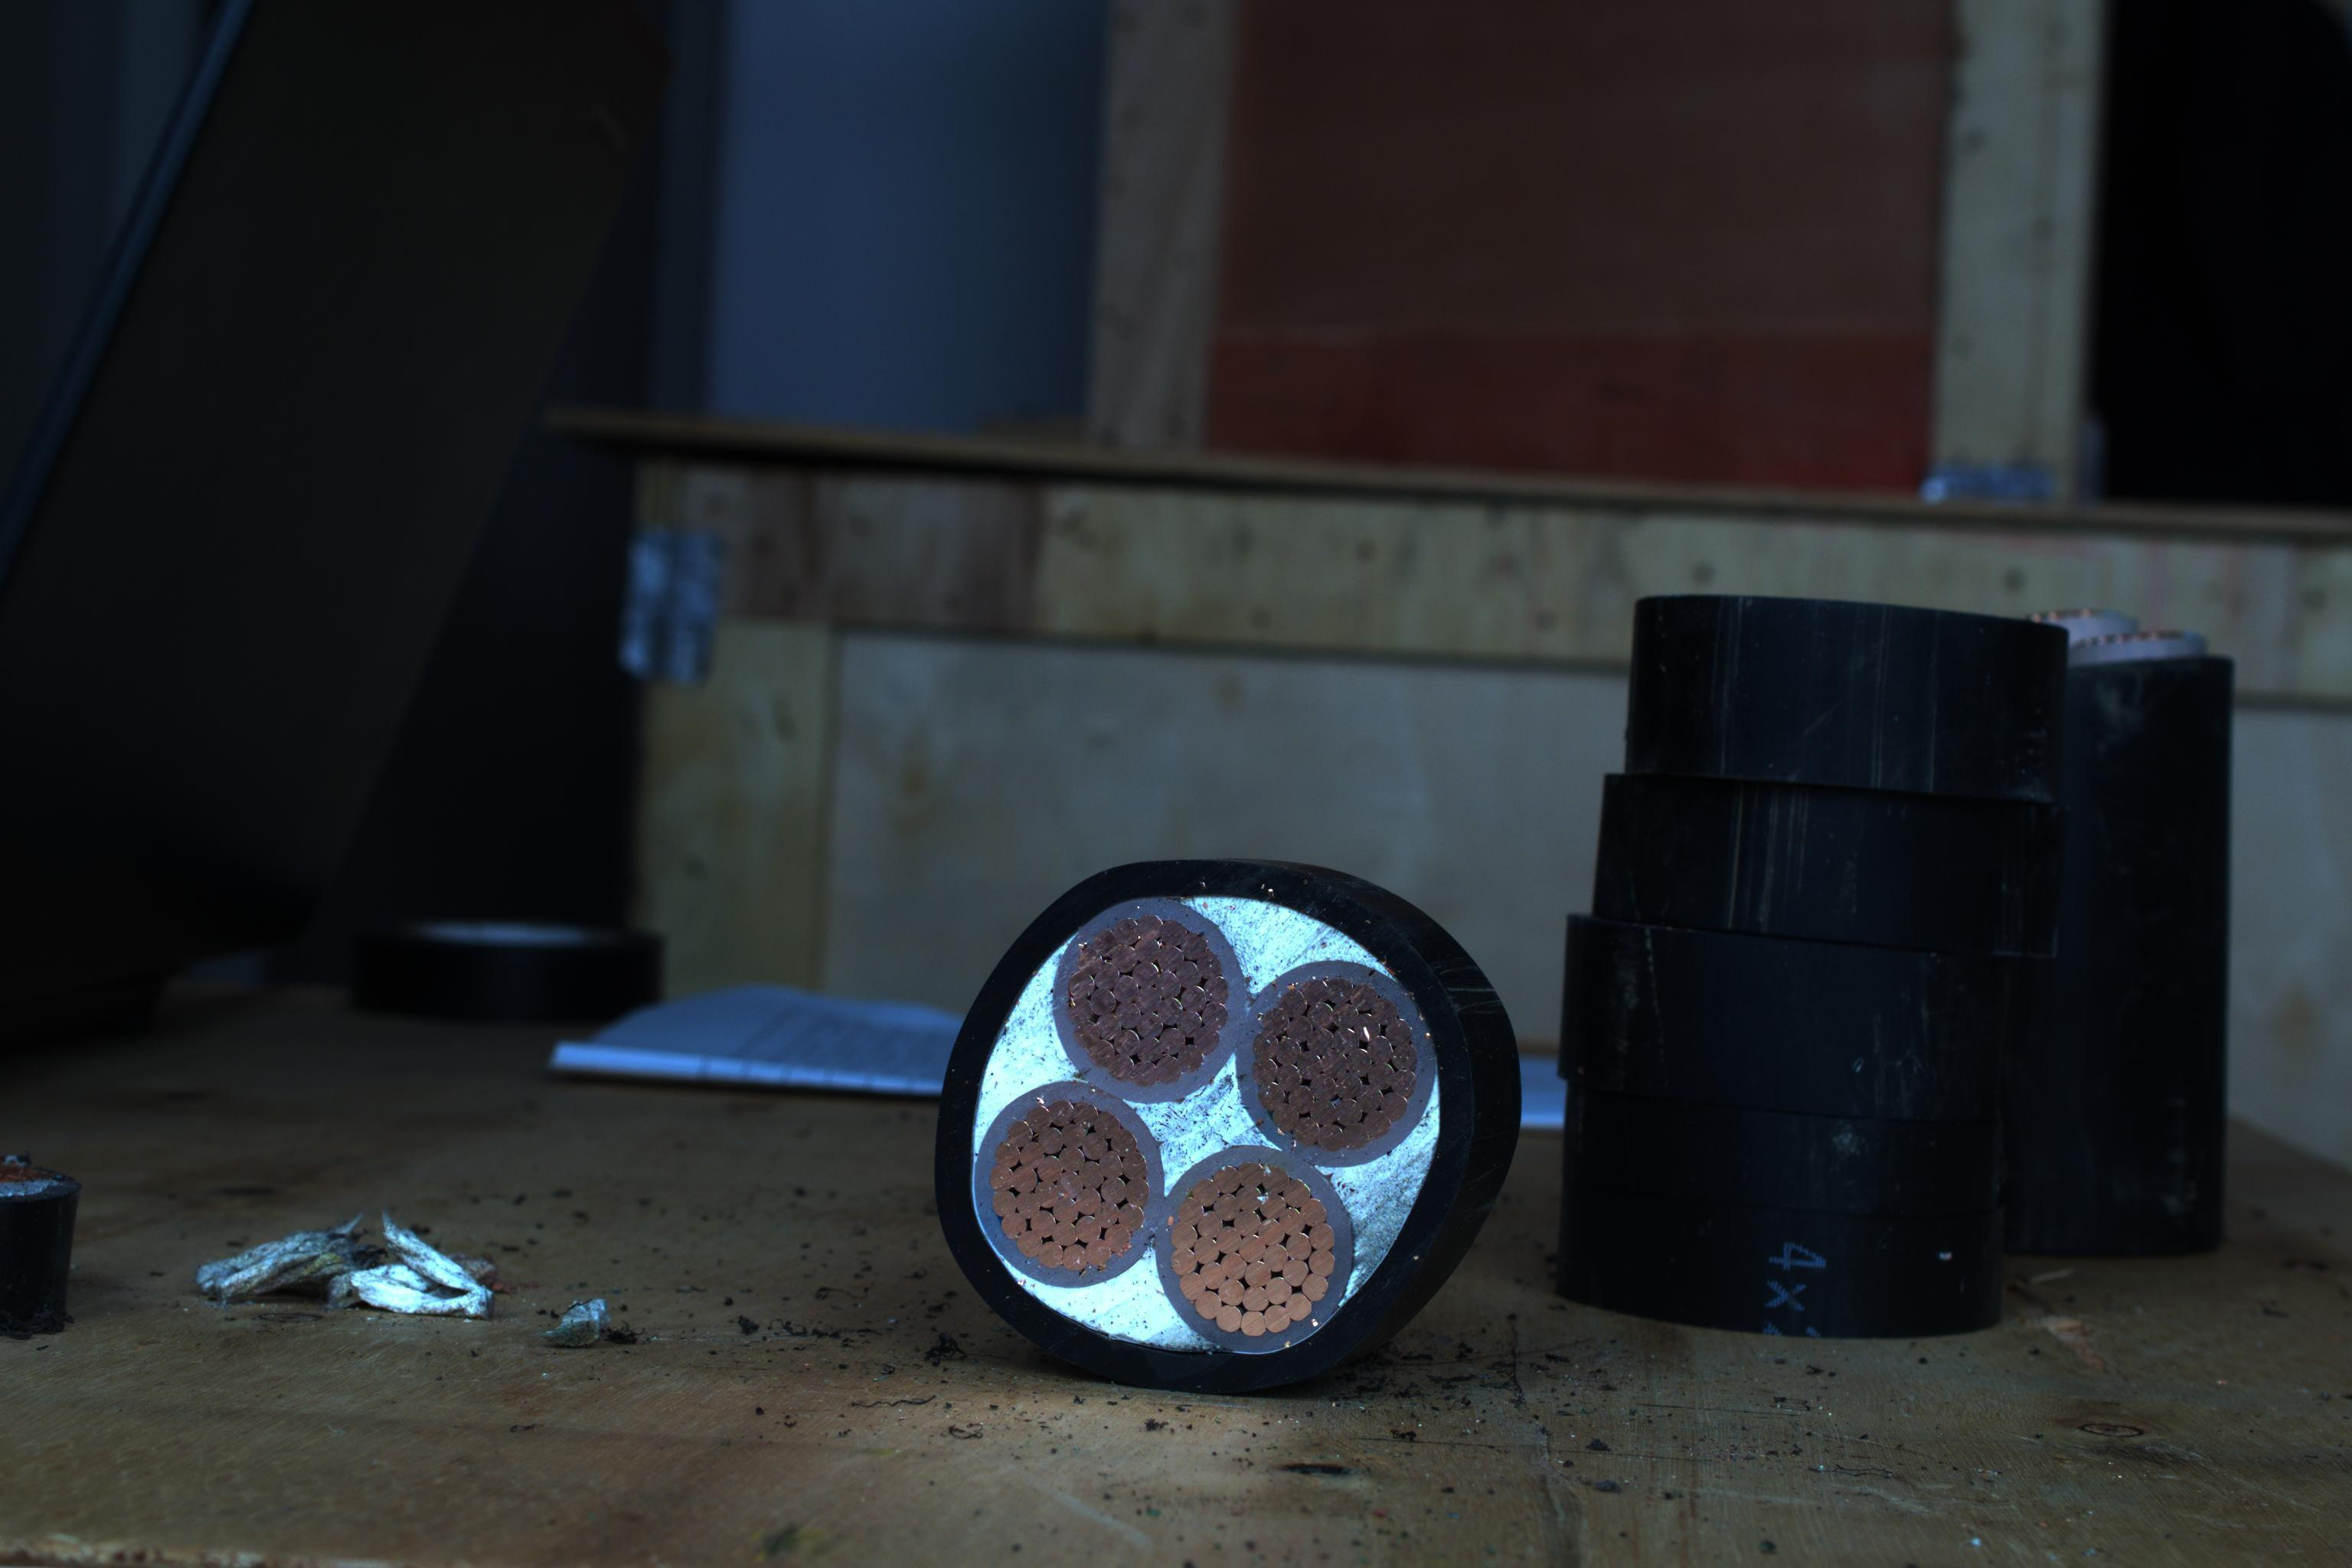YJV_0.6_1kV_4x240: (943, 861, 1461, 1367)
